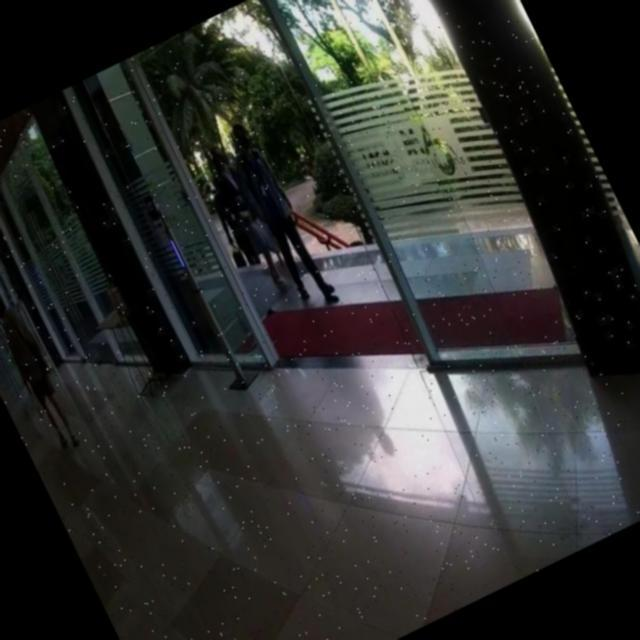person: (220, 118, 332, 304), (0, 289, 85, 459), (200, 142, 294, 295)
